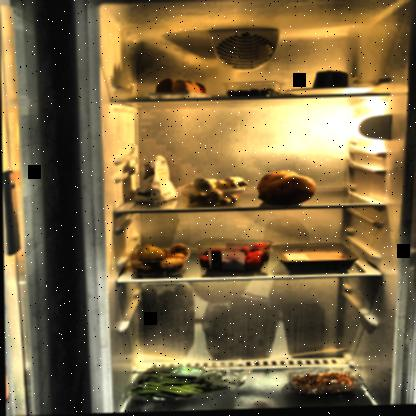blueberries: (227, 88, 281, 100)
cheese: (312, 71, 348, 93)
chicken: (277, 247, 352, 274)
eggs: (153, 79, 208, 100)
green_beans: (127, 364, 229, 404)
mushrooms: (181, 178, 249, 207)
potato: (124, 243, 191, 276)
shrimp: (290, 372, 357, 399)
strawberries: (202, 240, 269, 277)
sweet_potato: (256, 171, 316, 208)
